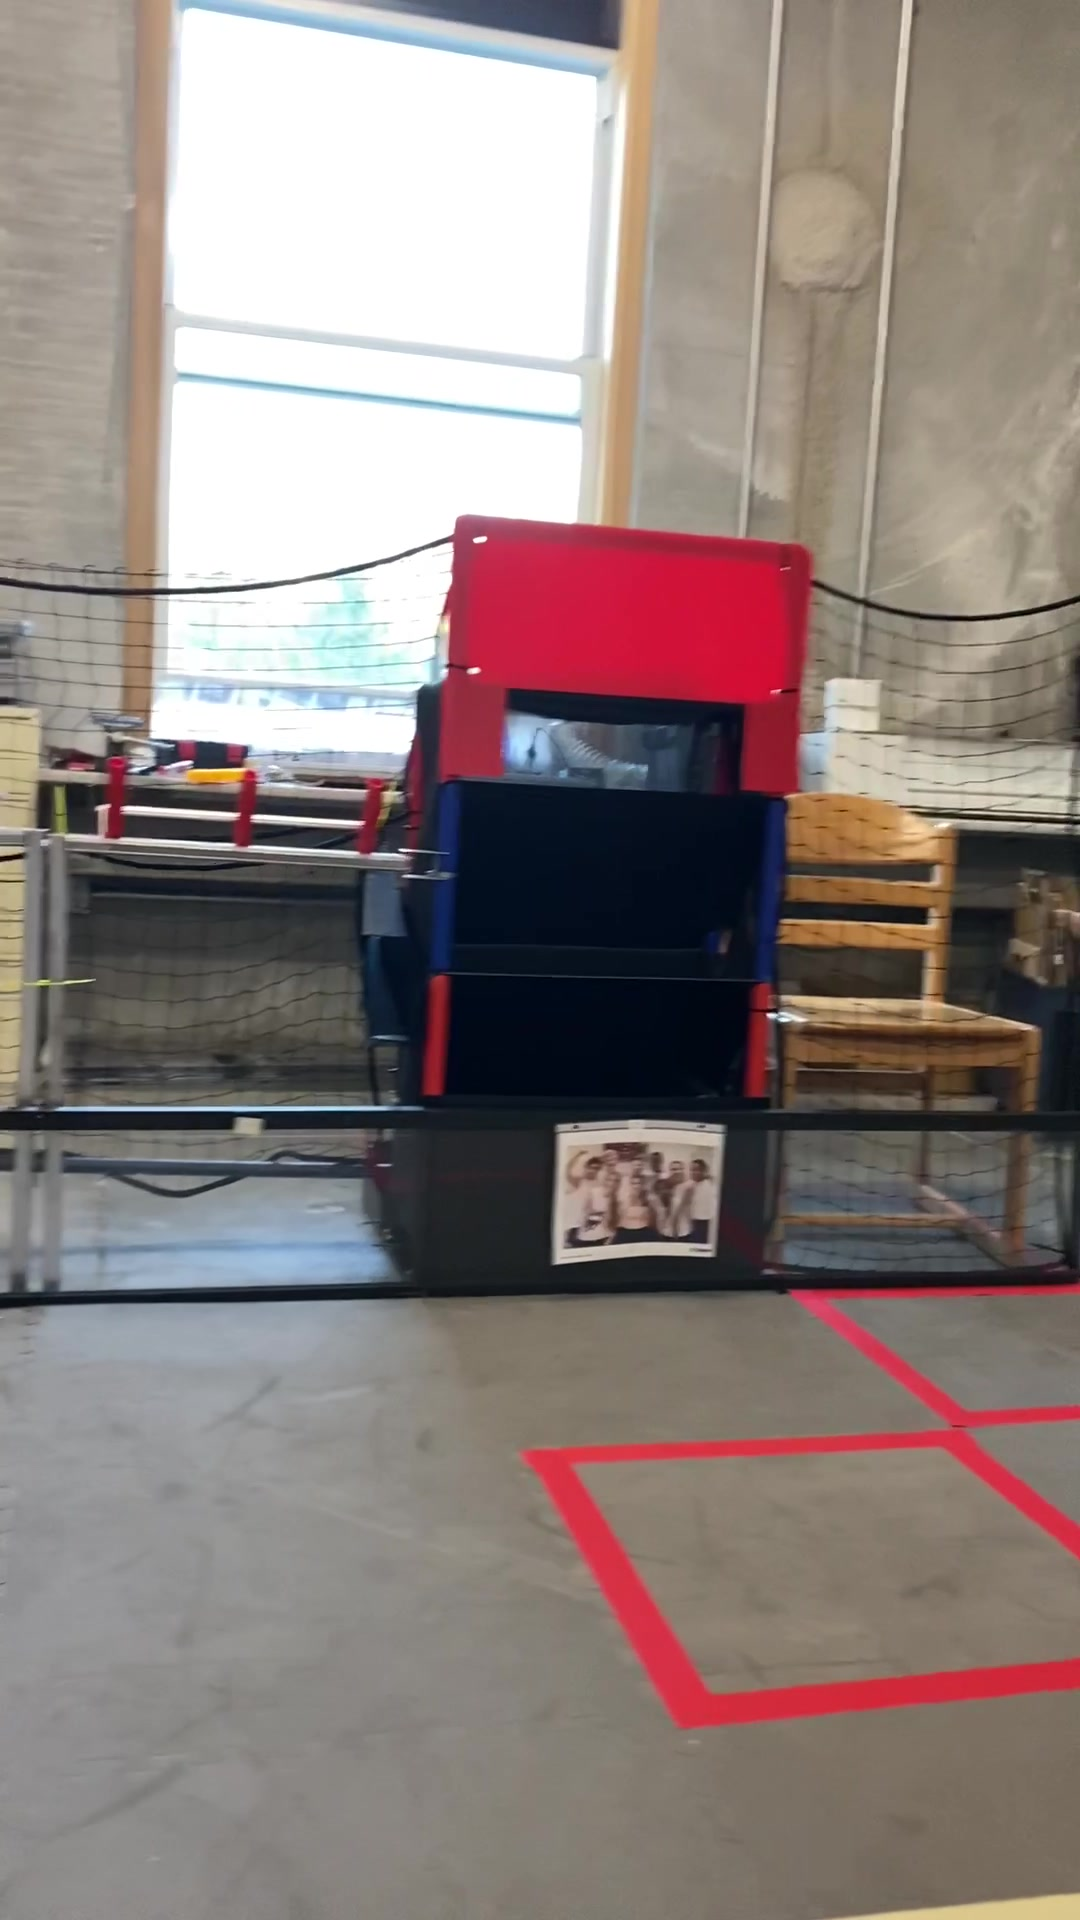high_goal: (509, 690, 741, 796)
